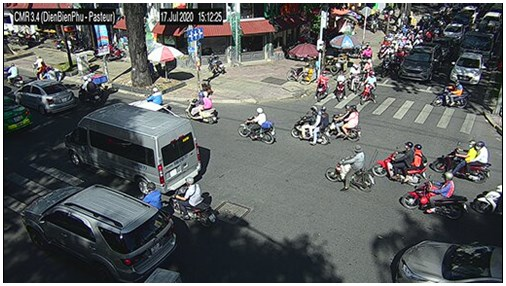xe_hoi: (20, 183, 176, 281), (395, 239, 502, 281), (15, 79, 76, 114), (400, 43, 441, 83), (450, 53, 484, 87), (4, 98, 32, 134)
xe_khach: (66, 103, 201, 195)
xe_may: (401, 171, 469, 219), (431, 138, 491, 183), (371, 142, 427, 186), (324, 145, 376, 192), (170, 178, 216, 229), (291, 106, 331, 146), (236, 108, 276, 144), (329, 104, 362, 140), (186, 89, 219, 124), (434, 79, 468, 109), (473, 183, 502, 214), (138, 182, 165, 211), (360, 70, 378, 104), (77, 76, 98, 105), (314, 70, 330, 102), (7, 62, 22, 88), (146, 87, 165, 107), (335, 70, 346, 104), (380, 51, 393, 76), (349, 62, 359, 94), (361, 42, 370, 66)
